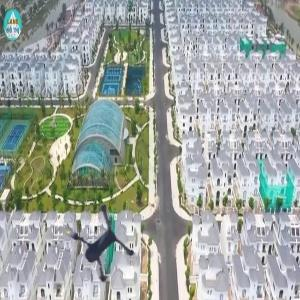drone: (45, 186, 153, 294)
